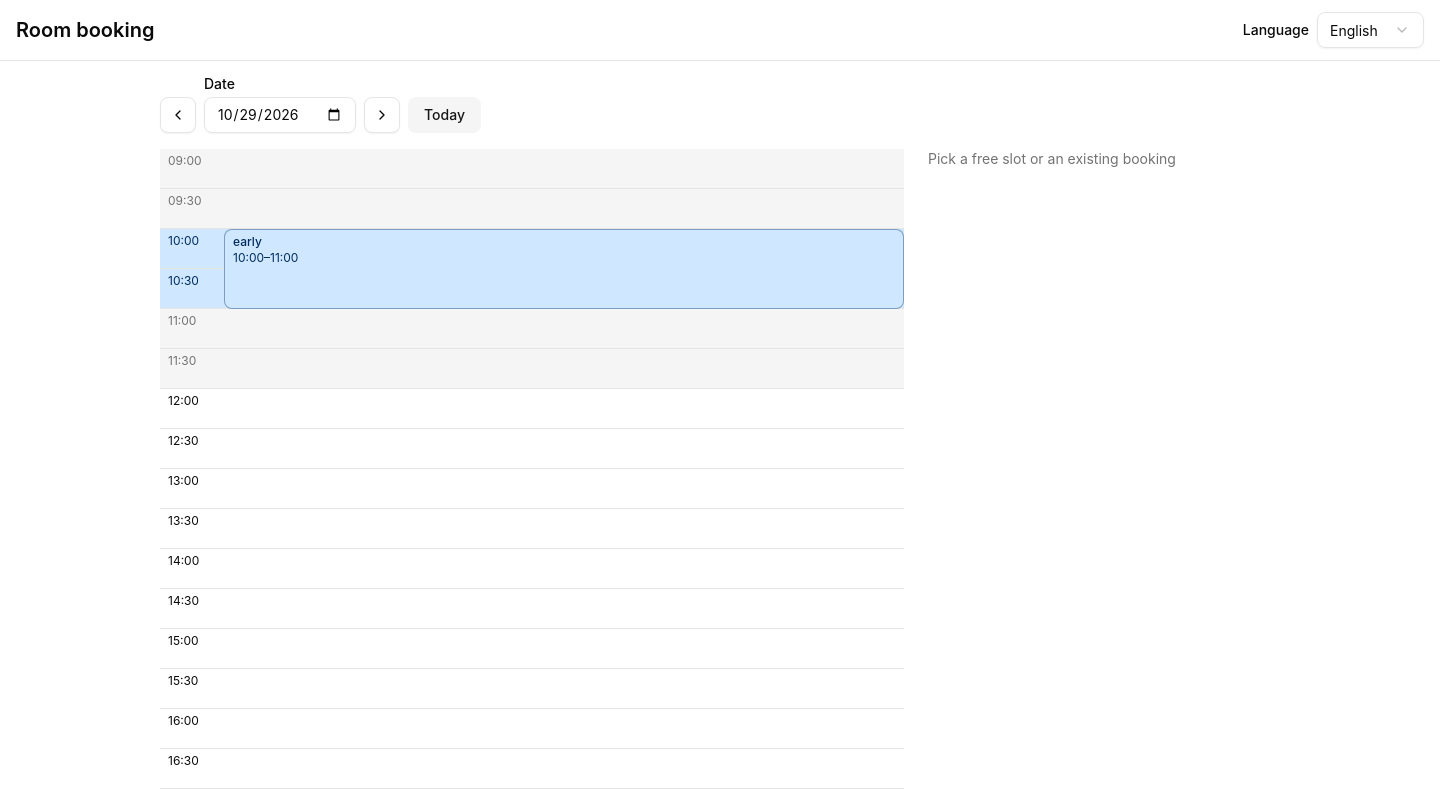
Test: BookingScreen › editing a booking › does not complain about the past when only the title of a started booking changes
Click the button with aria-label "early, 10:00–11:00" at {"x": 266, "y": 257}, box [224,229,904,309]
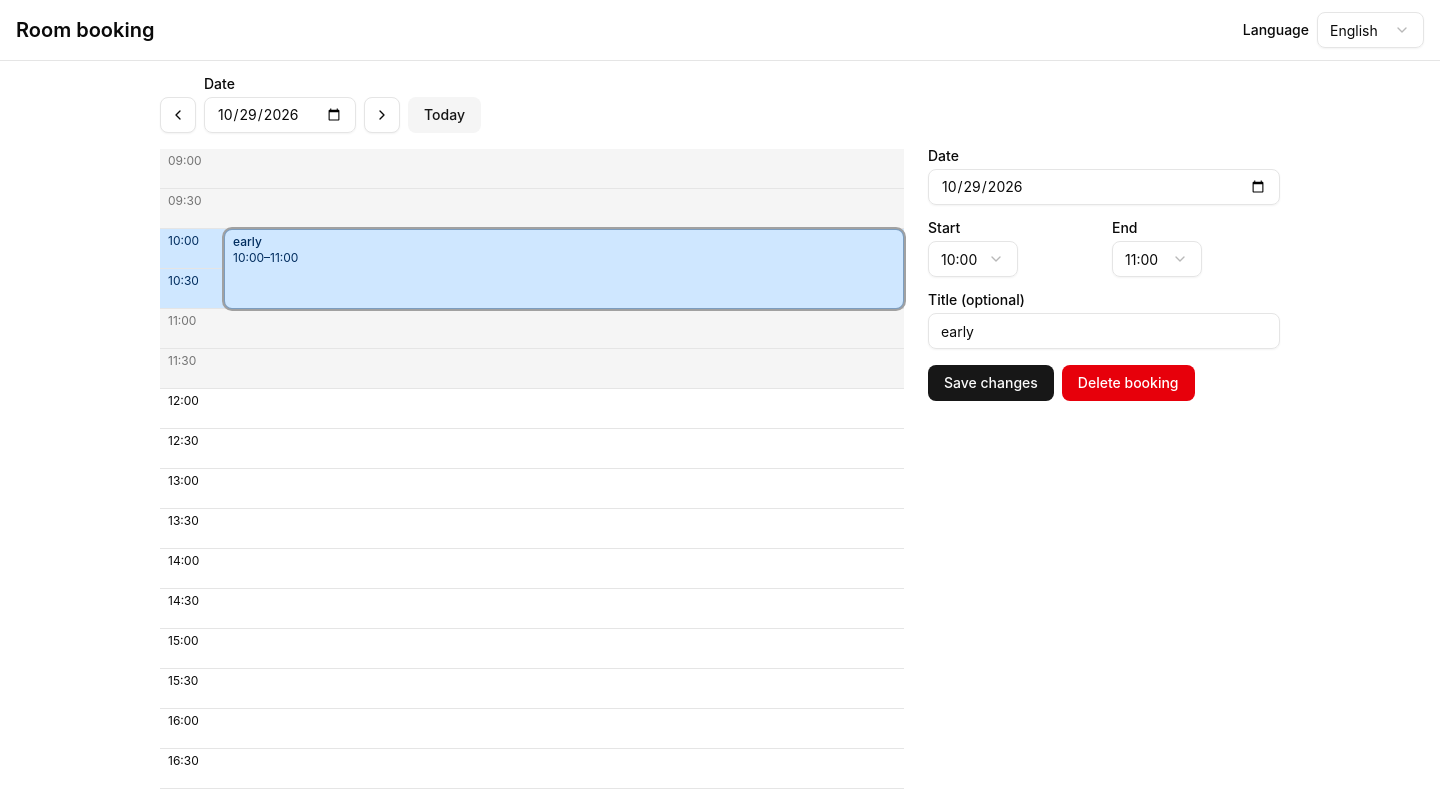
Replace the text in the field labelled "Title (optional)" with "early v2" at {"x": 1104, "y": 331}, box [928,313,1280,349]
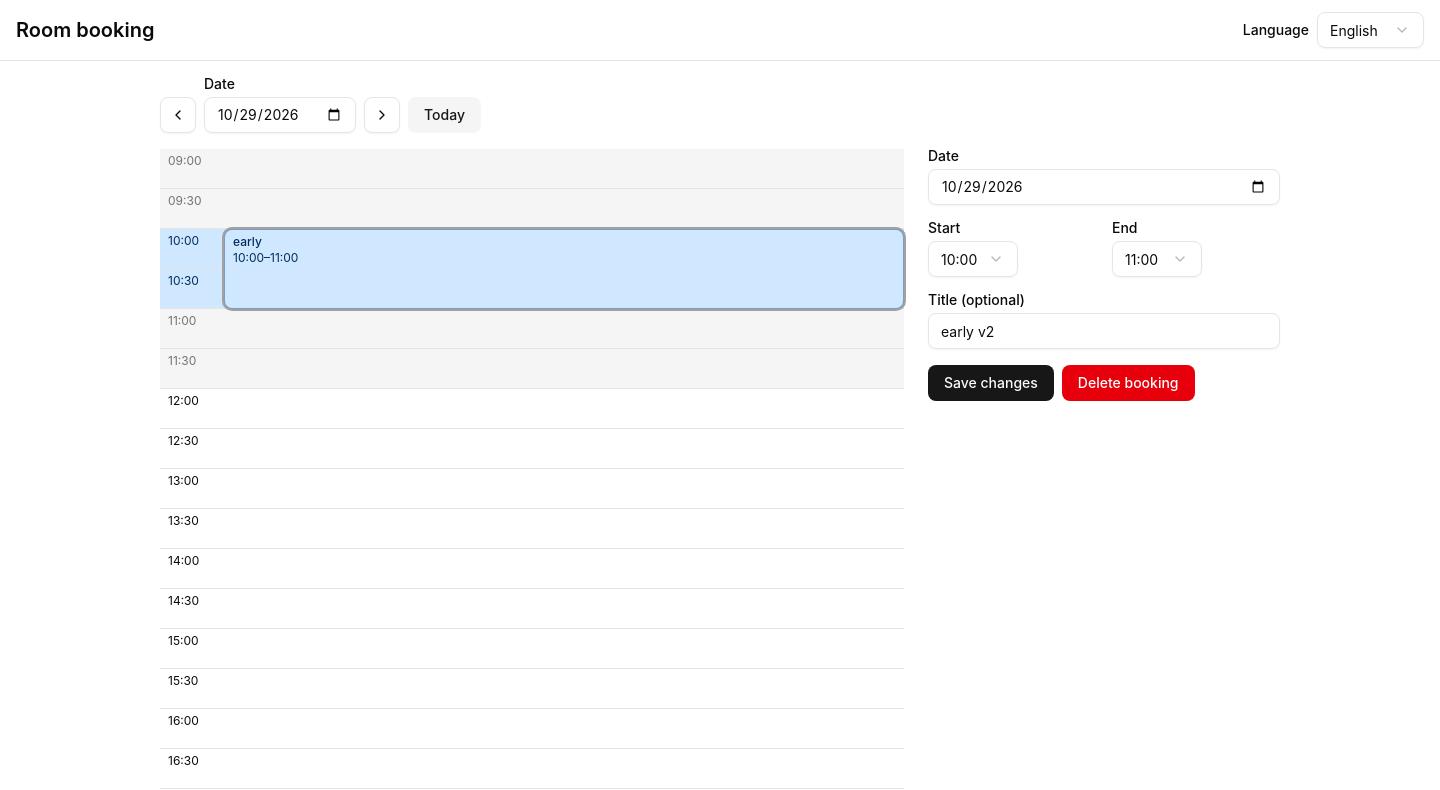
Click the button "Save changes" at {"x": 991, "y": 383}, box [928,365,1054,401]
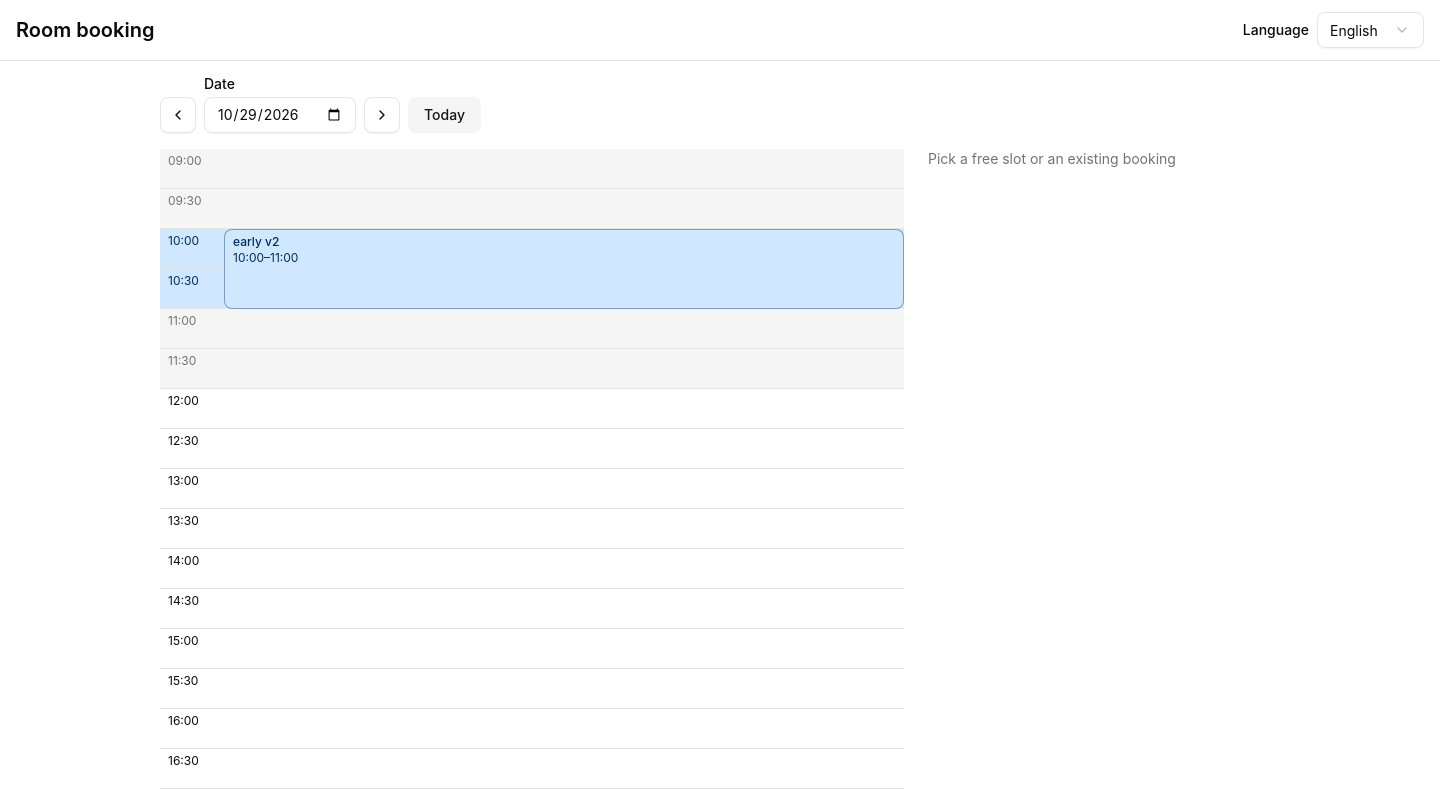
Check: the button with aria-label "early v2, 10:00–11:00" is shown, box [224,229,904,309]
